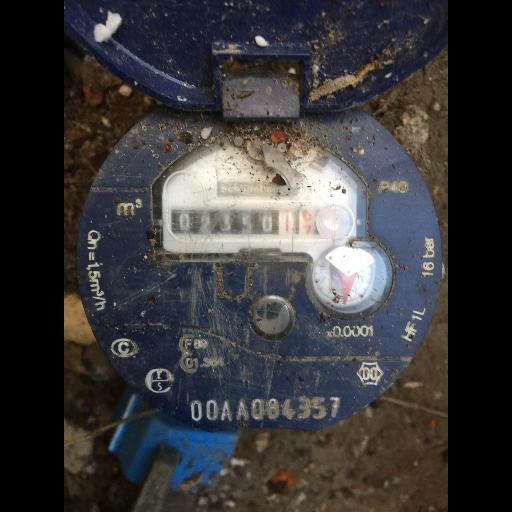0: (171, 210, 195, 234), (258, 210, 280, 234)
1: (280, 211, 300, 235)
2: (195, 210, 217, 234)
3: (216, 210, 238, 235)
5: (237, 210, 259, 234)
6: (299, 211, 322, 236)
border_water_meter_number: (163, 202, 354, 242)
